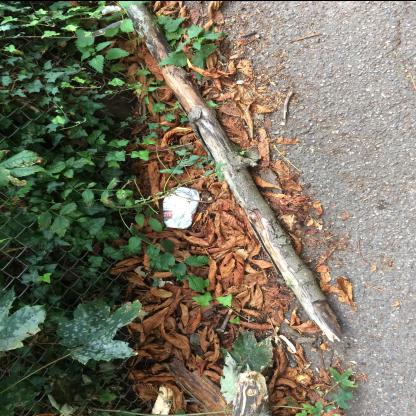metal: (162, 186, 200, 229)
